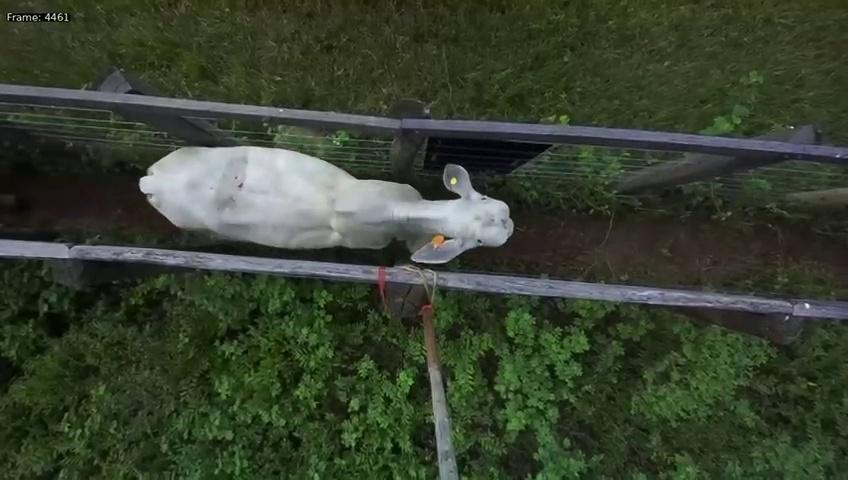cattle: (134, 134, 514, 266)
